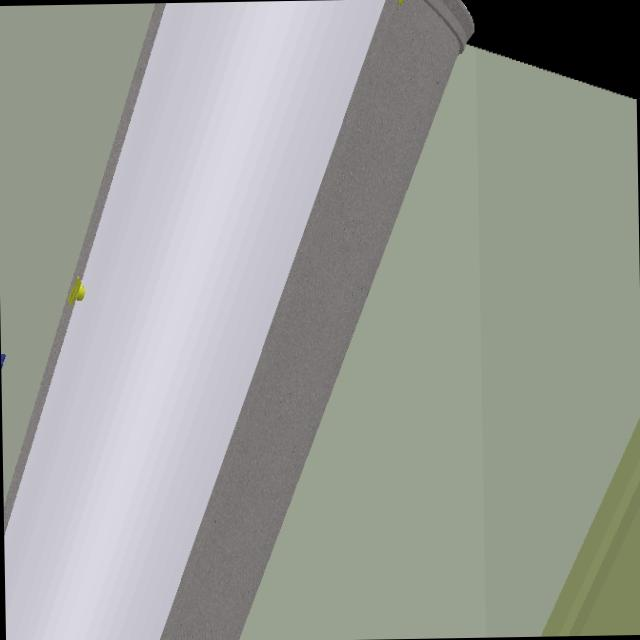bathtube: (4, 0, 475, 640)
